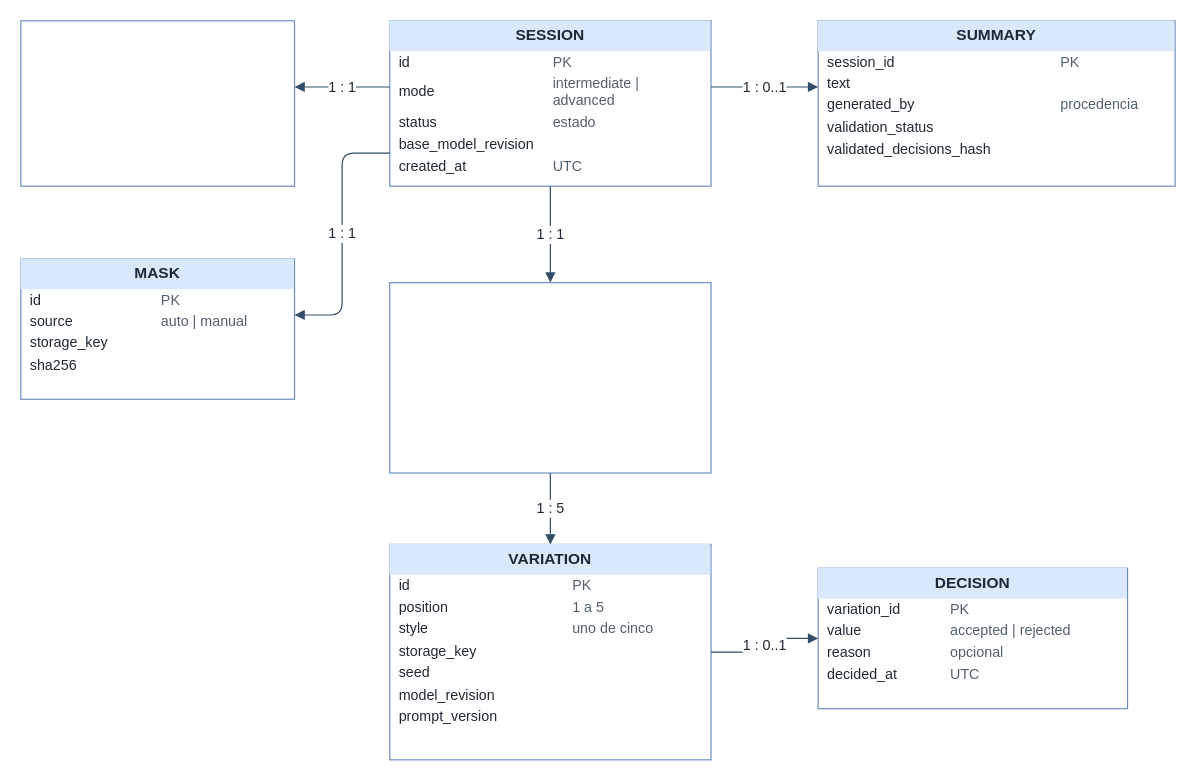
Some shapes in this 1196 by 781 pixel diagram are drawn without their labels. Here are the shapes that lost their labels. From the top down, the box of each, then its label:
(20, 20, 295, 186): INPUT_IMAGE id PK storage_key sha256 width height
(389, 281, 711, 473): GENERATION_JOB id PK backend status idempotency_key config_json created_at UTC
